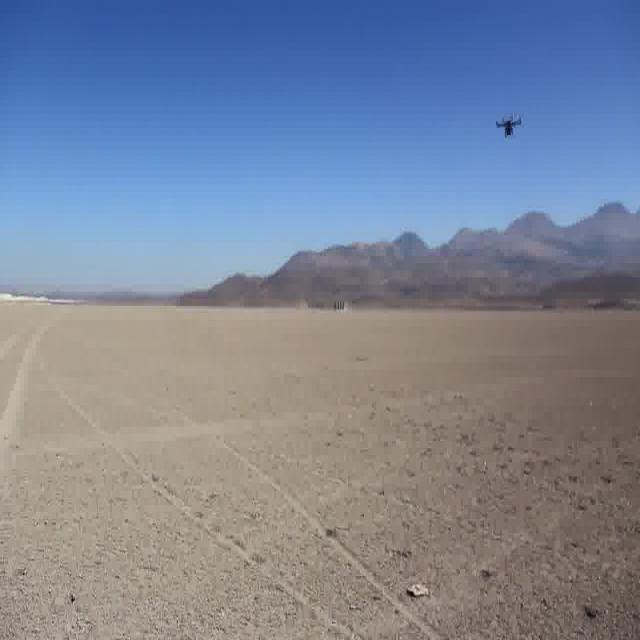drones: (488, 101, 526, 151)
